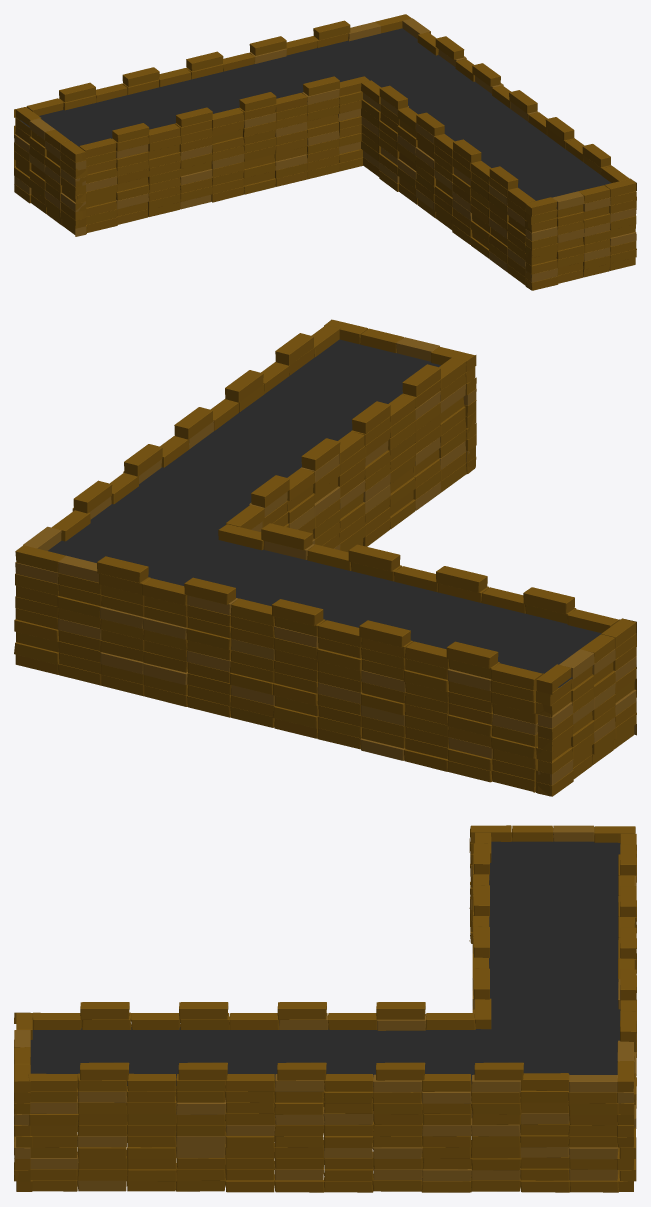
File: Wall_LBlock.fbx
3 views of the same model, one above another, from view 1: azimuth 30°, elevation 25°; view 2: azimuth 150°, elevation 25°; view 3: azimuth 270°, elevation 25° (orthographic). The views are drawn at different scales.
Parts seen in each view (by area): view 1: Plane.006, Cube.051, Cube.038, Cube.036, Cube.045, Cube.050, Cube.037, Cube.053, Cube.040, Cube.048, Cube.039; view 2: Cube.050, Plane.006, Cube.038, Cube.045, Cube.051, Cube.037, Cube.053, Cube.040, Cube.048, Cube.036, Cube.039; view 3: Cube.037, Plane.006, Cube.038, Cube.040, Cube.050, Cube.039, Cube.036, Cube.045, Cube.053, Cube.048, Cube.051.
Part boxes in pixels (box(x1,y1,x2,y2)): Plane.006: box(20, 28, 611, 200); Cube.051: box(79, 76, 369, 232); Cube.038: box(361, 80, 535, 284); Cube.036: box(525, 178, 636, 290); Cube.045: box(14, 107, 87, 236); Cube.050: box(26, 14, 411, 115); Cube.037: box(402, 18, 629, 182); Cube.053: box(59, 20, 350, 102); Cube.040: box(435, 36, 610, 167); Cube.048: box(112, 76, 339, 142); Cube.039: box(379, 85, 518, 189); Cube.050: box(14, 545, 543, 792); Plane.006: box(48, 339, 601, 687); Cube.038: box(226, 358, 466, 552); Cube.045: box(536, 618, 636, 796); Cube.051: box(218, 524, 620, 633); Cube.037: box(23, 325, 340, 550); Cube.053: box(97, 556, 498, 668); Cube.040: box(73, 333, 313, 513); Cube.048: box(261, 523, 574, 614); Cube.036: box(324, 319, 476, 474); Cube.039: box(251, 364, 440, 507); Cube.037: box(28, 1073, 618, 1192); Plane.006: box(30, 841, 620, 1085); Cube.038: box(32, 1012, 475, 1118); Cube.040: box(80, 1062, 523, 1080); Cube.050: box(617, 833, 636, 1191); Cube.039: box(80, 1002, 425, 1019); Cube.036: box(14, 1012, 32, 1191); Cube.045: box(469, 825, 635, 943); Cube.053: box(620, 844, 636, 1042); Cube.048: box(473, 843, 489, 999); Cube.051: box(472, 832, 491, 1029).
Bounding box in the file's own units: 21.35 × 4.75 × 21.85.
